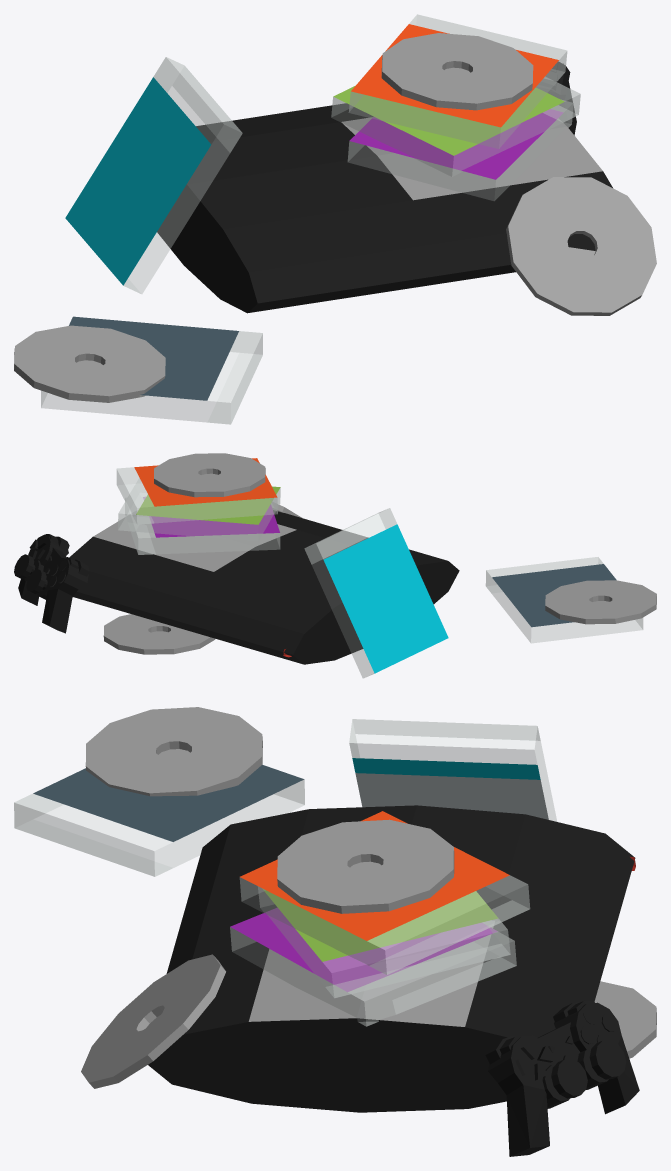
Rendered from playstation-5.glb.
3 renders of one model, top to bottom at view 1: azimuth 30°, elevation 25°; view 2: azimuth 150°, elevation 25°; view 3: azimuth 270°, elevation 25°, orthographic. The views are drawn at different scales.
Visible parts, largest first — view 1: Node; view 2: Node; view 3: Node.
Part boxes in pixels (x1,y1,x2,y2): Node: (14,14,656,424); Node: (14,453,656,678); Node: (14,707,656,1156).
Bounding box in the file's own units: 0.9655 × 0.2367 × 0.6527.
